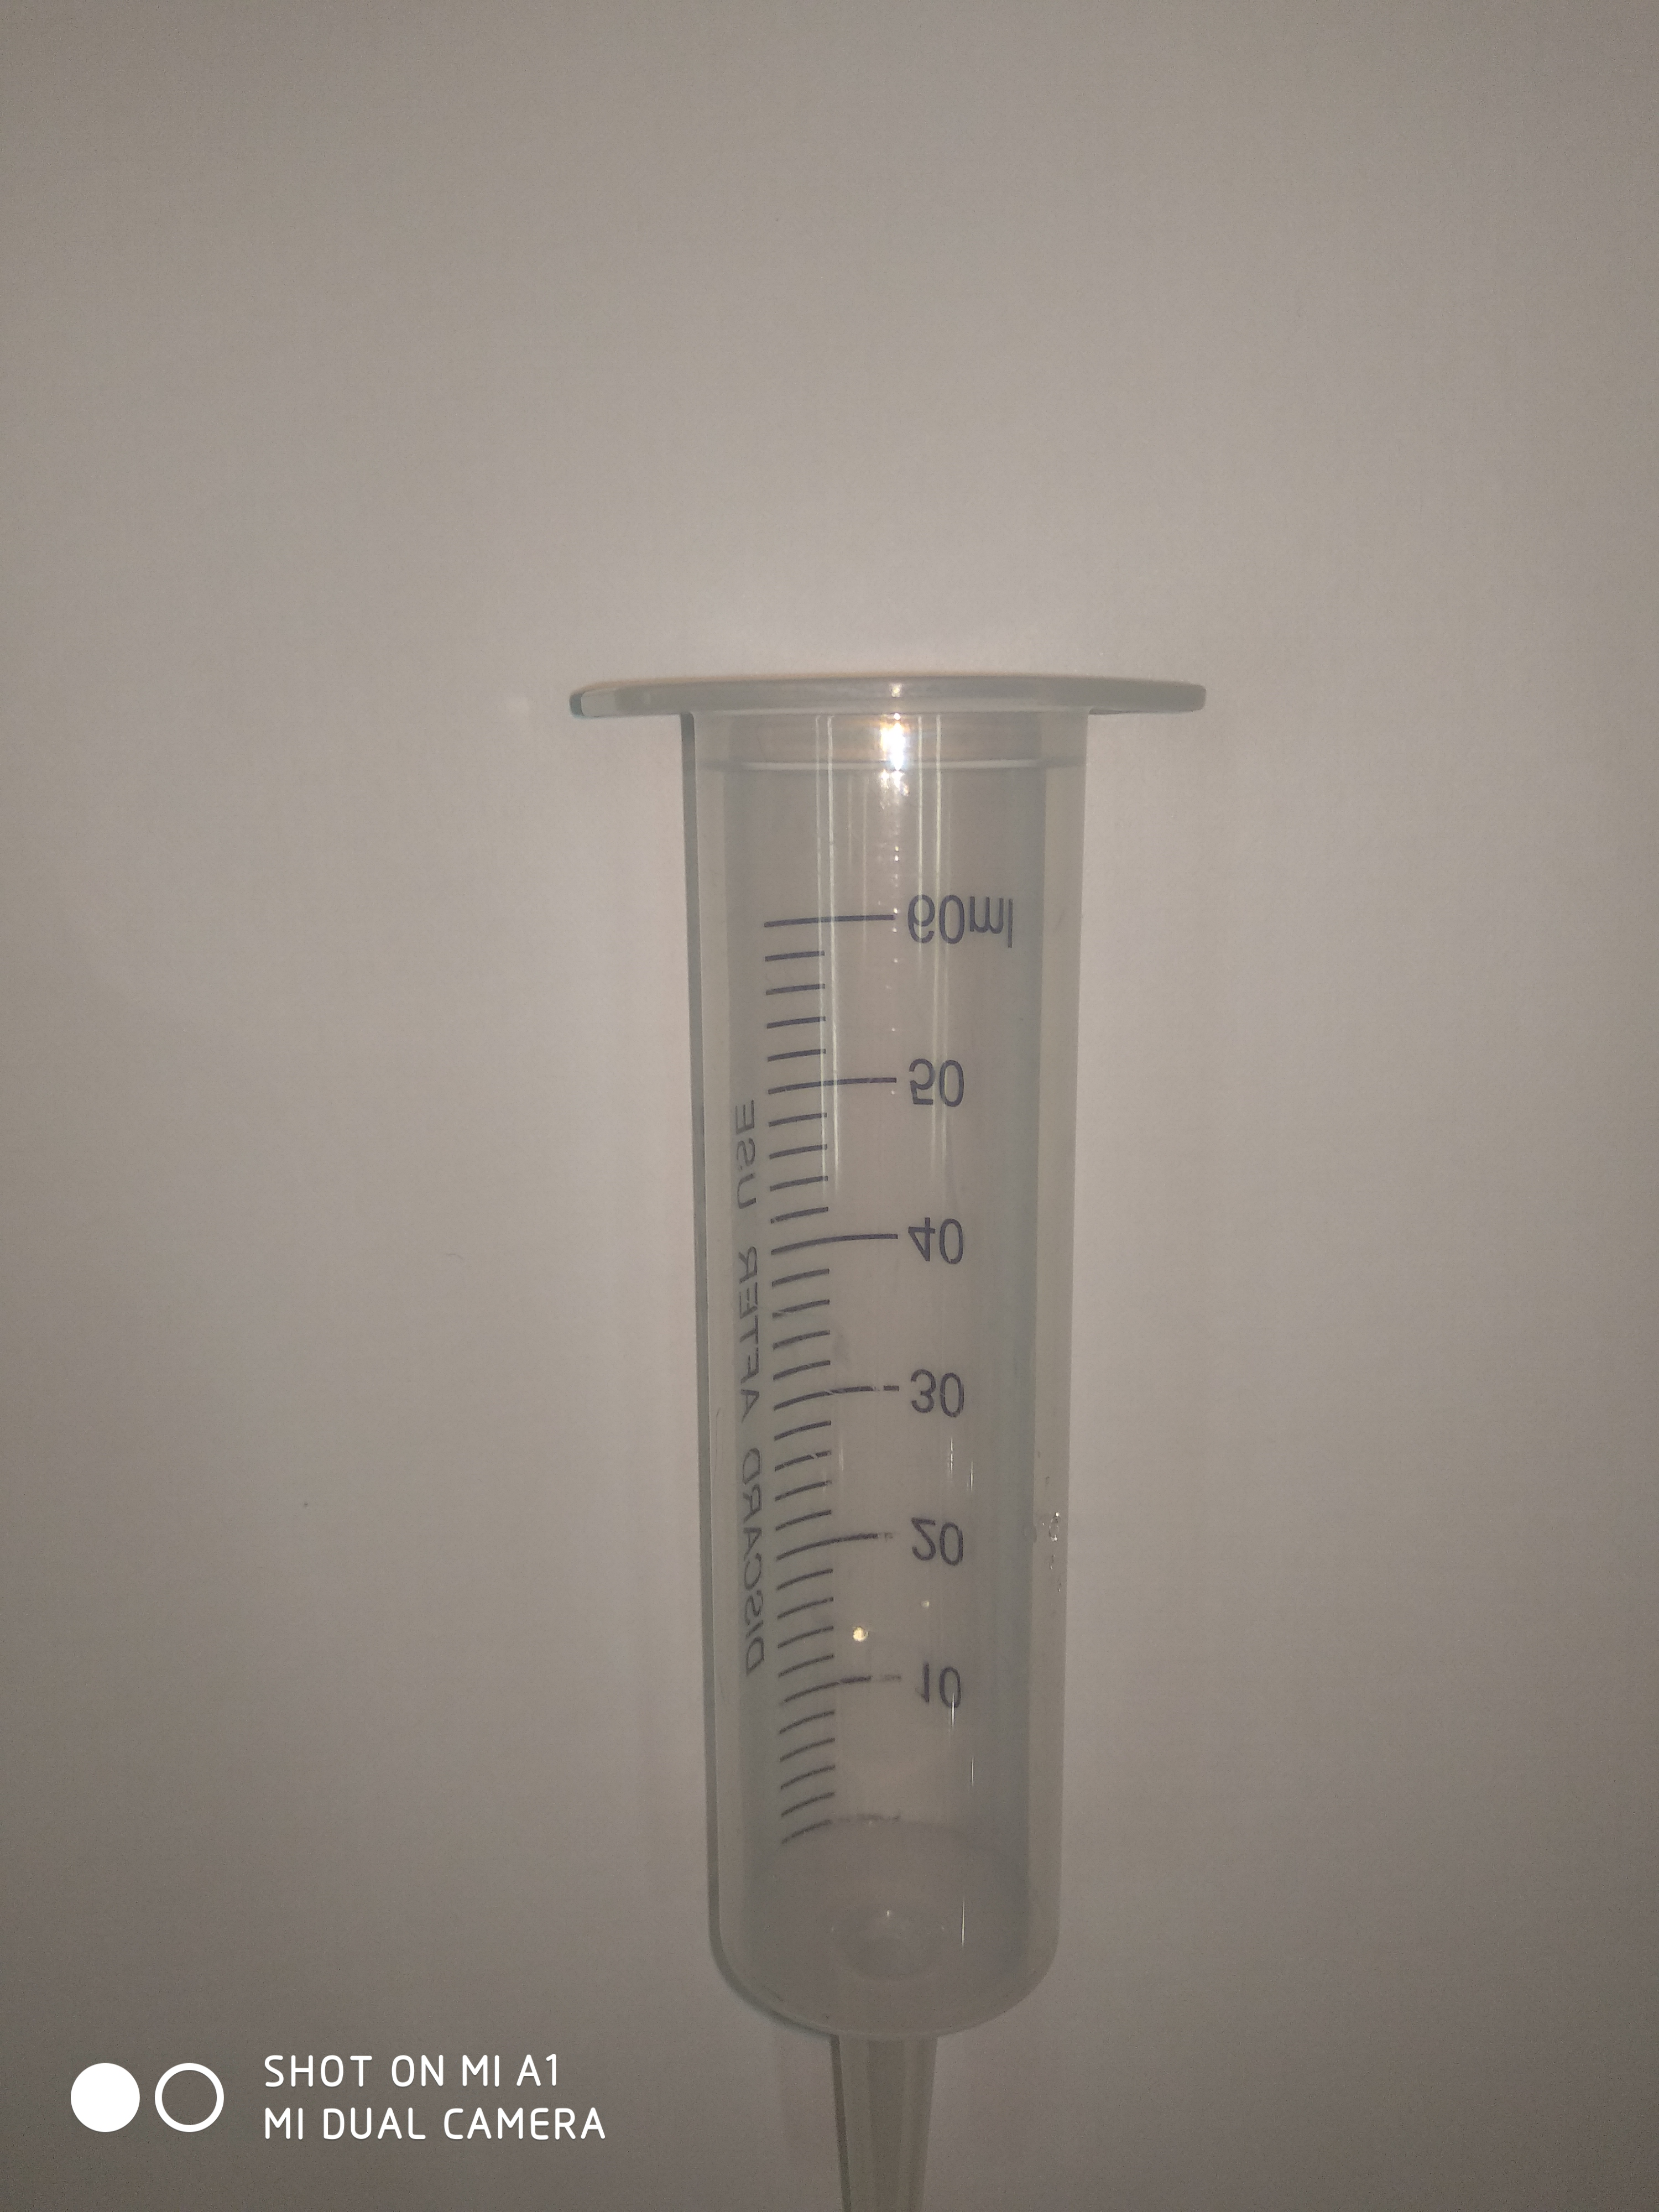syringe: (559, 655, 1229, 2212)
